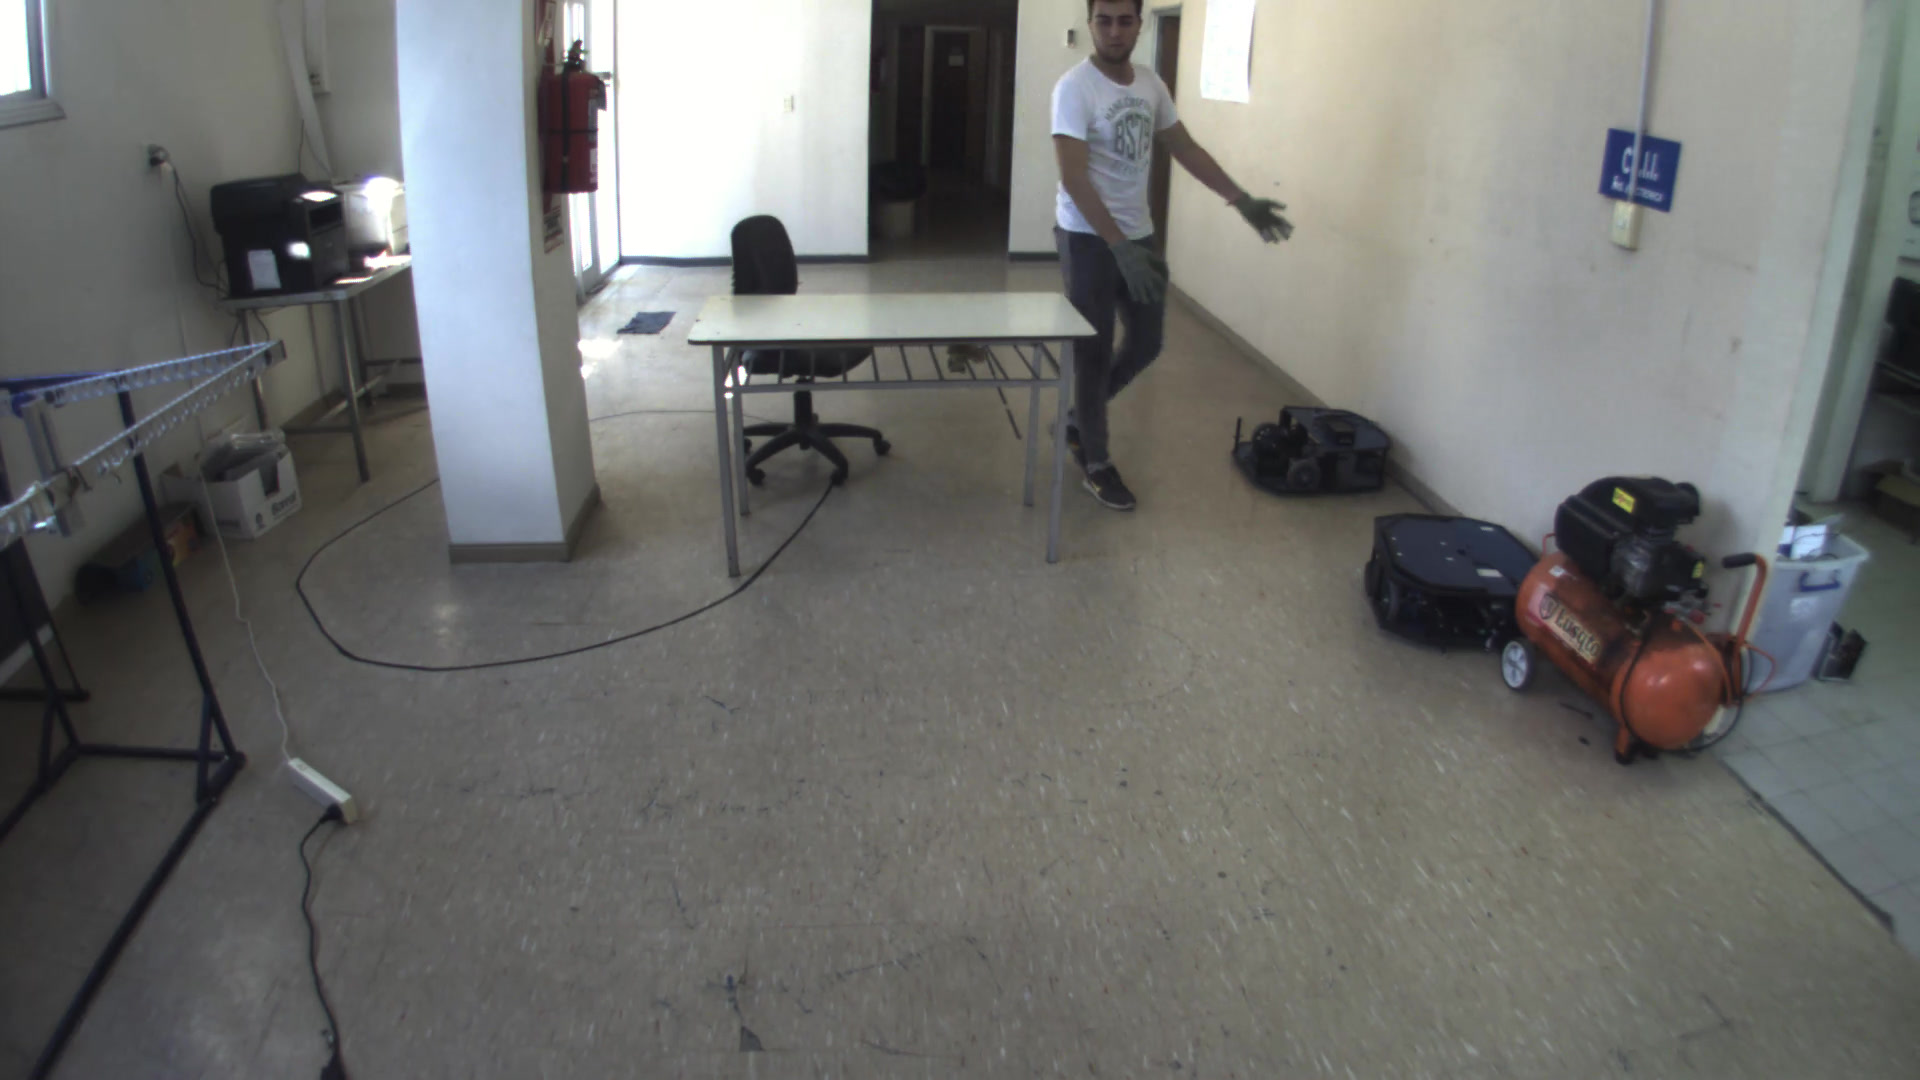hand: (1226, 185, 1305, 251), (1116, 231, 1179, 309)
